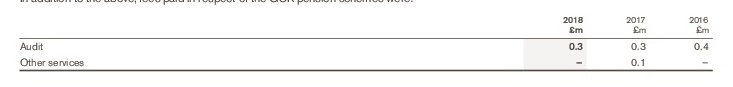table: (0, 0, 733, 87)
